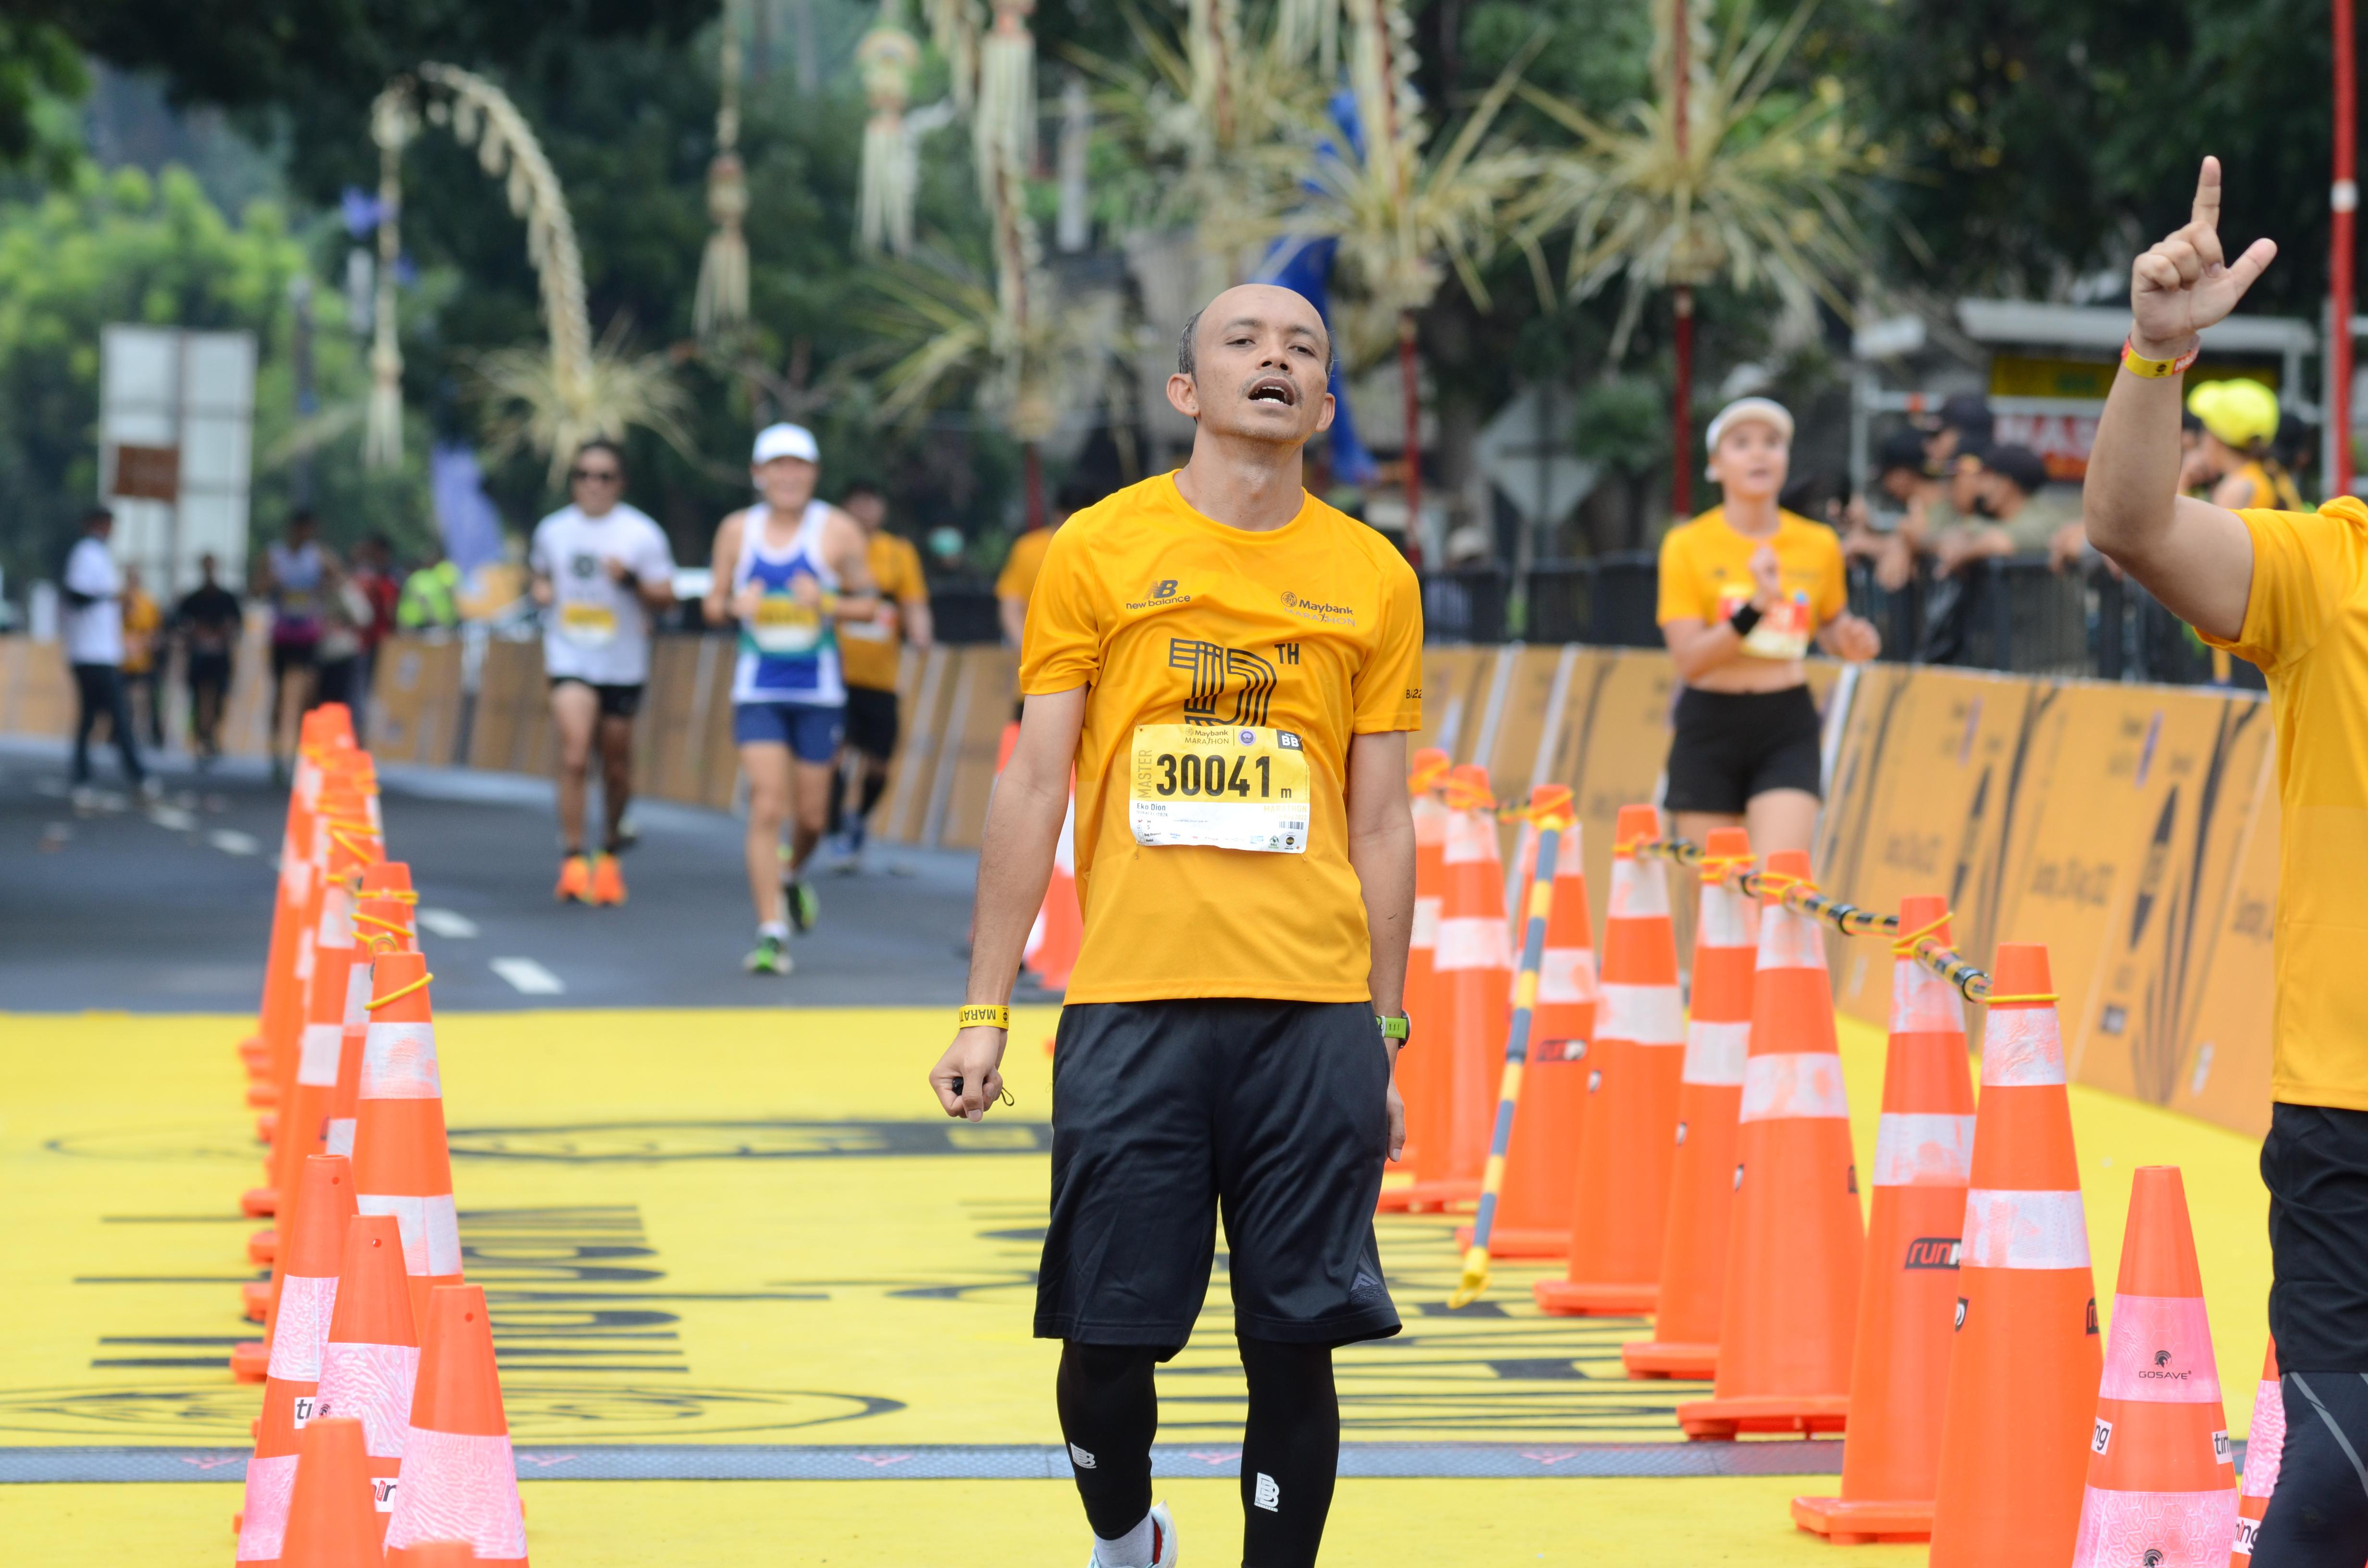bib: (1129, 717, 1309, 854), (1722, 586, 1806, 658), (754, 600, 821, 642), (564, 607, 613, 646)
